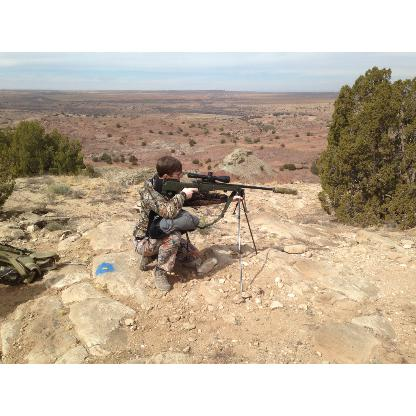gun: (153, 171, 297, 213)
